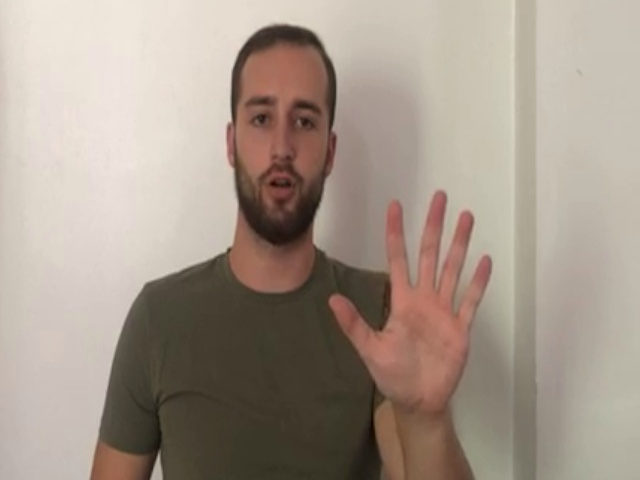Pet i Sedumnaeset: (324, 189, 507, 418)
